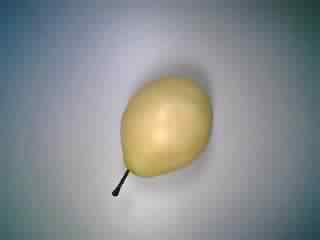pear: (106, 70, 215, 203)
